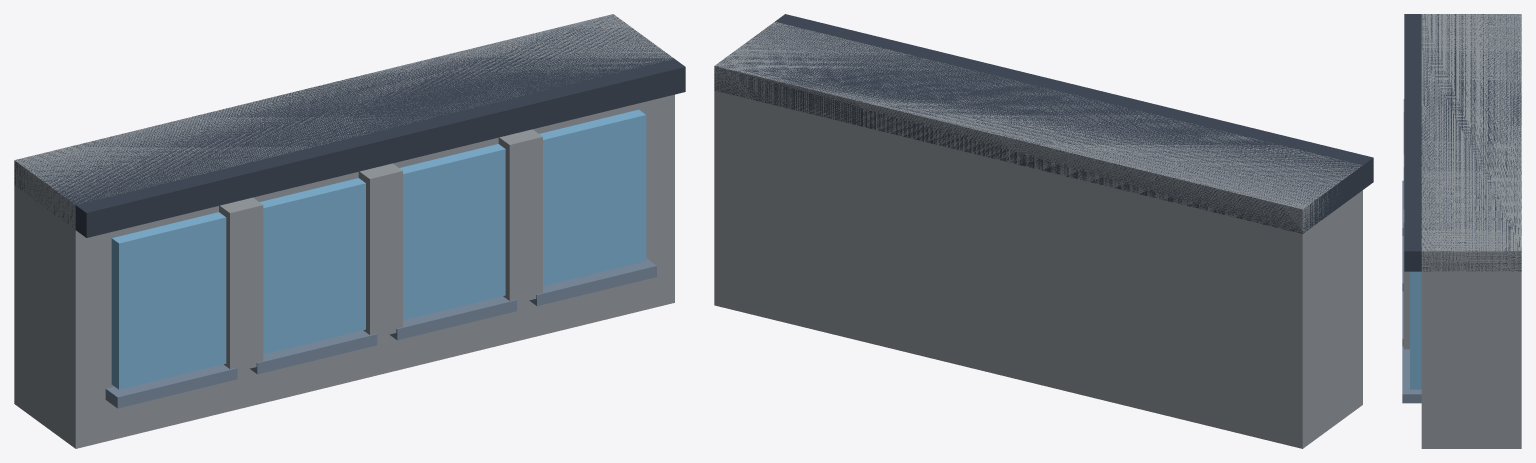
File: cittaVetroPianoB.glb
3 renders of one model, left to right at view 1: azimuth 30°, elevation 25°; view 2: azimuth 150°, elevation 25°; view 3: azimuth 270°, elevation 25°, orthographic. The views are drawn at different scales.
Visible parts, largest first — view 1: cittaVetroPianoB_cittaVetro, cittaVetroPianoB_glass, cittaVetroPianoB_steelDark, cittaVetroPianoB_steel; view 2: cittaVetroPianoB_cittaVetro, cittaVetroPianoB_steelDark; view 3: cittaVetroPianoB_cittaVetro, cittaVetroPianoB_steelDark, cittaVetroPianoB_glass, cittaVetroPianoB_steel.
Part boxes in pixels (x1=…): cittaVetroPianoB_cittaVetro: x1=14, y1=14, x2=674, y2=448; cittaVetroPianoB_glass: x1=111, y1=109, x2=646, y2=389; cittaVetroPianoB_steelDark: x1=14, y1=14, x2=685, y2=237; cittaVetroPianoB_steel: x1=105, y1=258, x2=656, y2=408; cittaVetroPianoB_cittaVetro: x1=714, y1=22, x2=1362, y2=448; cittaVetroPianoB_steelDark: x1=714, y1=14, x2=1373, y2=233; cittaVetroPianoB_cittaVetro: x1=1403, y1=14, x2=1521, y2=448; cittaVetroPianoB_steelDark: x1=1404, y1=14, x2=1521, y2=271; cittaVetroPianoB_glass: x1=1410, y1=271, x2=1421, y2=389; cittaVetroPianoB_steel: x1=1402, y1=180, x2=1421, y2=403.
Size of the model in its own units: 9 by 3.5 by 1.91.
